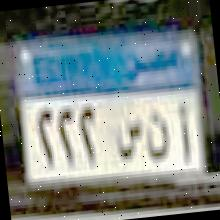2: (74, 98, 104, 169), (54, 101, 80, 168), (34, 106, 59, 169)
alif: (172, 97, 194, 166)
noon: (142, 104, 170, 164)
seen: (113, 111, 146, 163)
